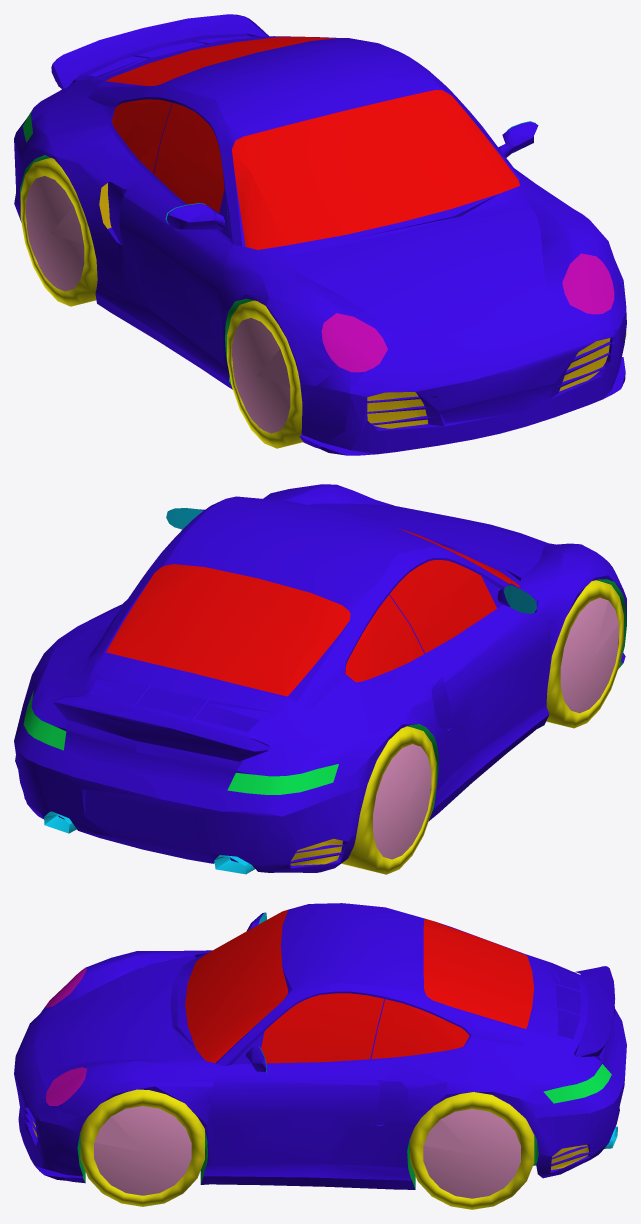
The model's file is Car07_Low_ColorCoded.fbx.
3 renders of one model, top to bottom at view 1: azimuth 30°, elevation 25°; view 2: azimuth 150°, elevation 25°; view 3: azimuth 270°, elevation 25°, orthographic. The views are drawn at different scales.
Visible parts, largest first — view 1: carBody_low, tireFrontR_low, tireBackR_low; view 2: carBody_low, tireBackR_low, tireFrontR_low; view 3: carBody_low, tireFrontL_low, tireBackL_low.
Boxes of the visible parts, x1=… form: carBody_low: x1=14, y1=14, x2=626, y2=455; tireFrontR_low: x1=227, y1=300, x2=302, y2=448; tireBackR_low: x1=20, y1=158, x2=97, y2=306; carBody_low: x1=14, y1=484, x2=626, y2=874; tireBackR_low: x1=341, y1=726, x2=436, y2=874; tireFrontR_low: x1=546, y1=580, x2=623, y2=728; carBody_low: x1=14, y1=903, x2=626, y2=1189; tireFrontL_low: x1=80, y1=1089, x2=204, y2=1206; tireBackL_low: x1=410, y1=1092, x2=534, y2=1209.
Size of the model in its own units: 64.66 by 111 by 40.56.
